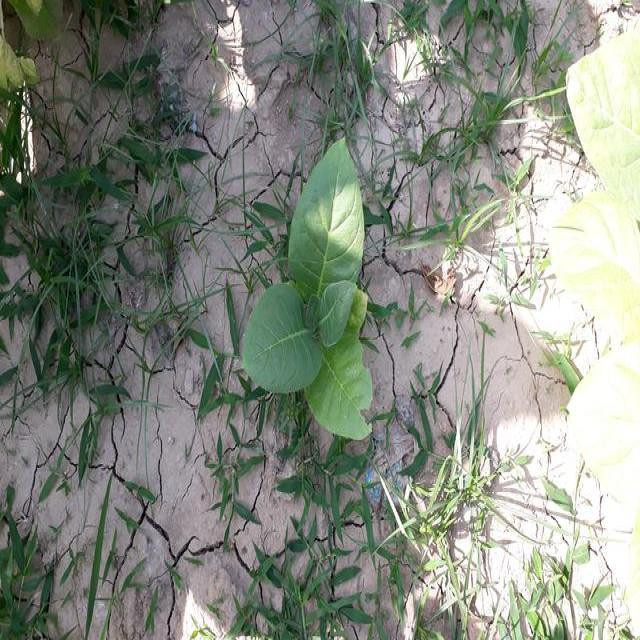crop: (233, 123, 388, 443)
